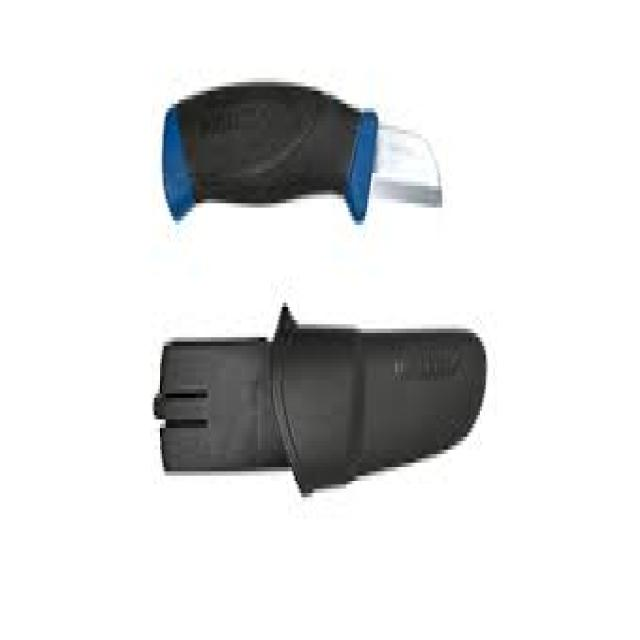knives: (150, 298, 490, 502), (158, 69, 444, 234)
